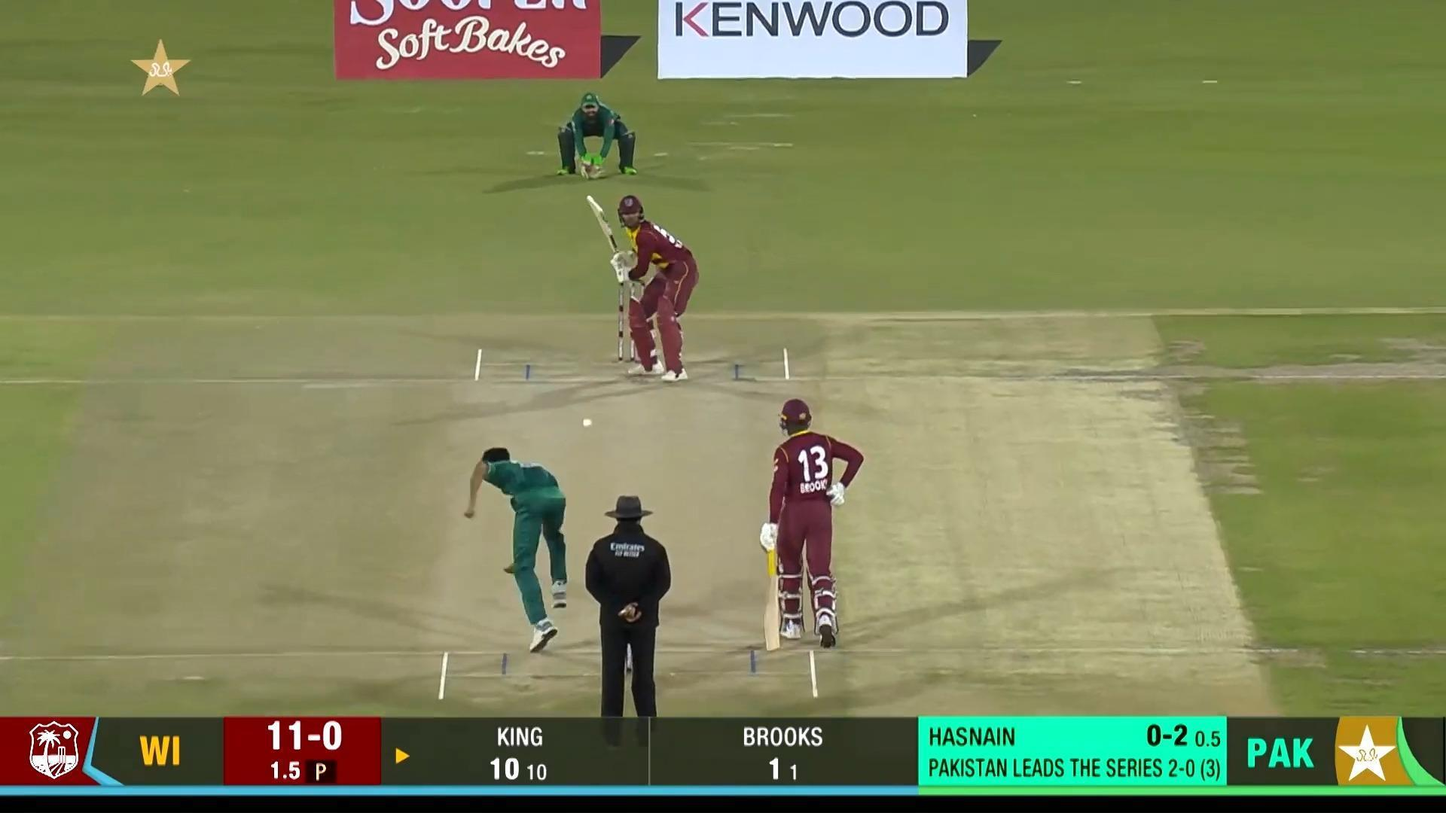BM 1: (584, 194, 700, 384)
BO: (464, 447, 568, 653)
